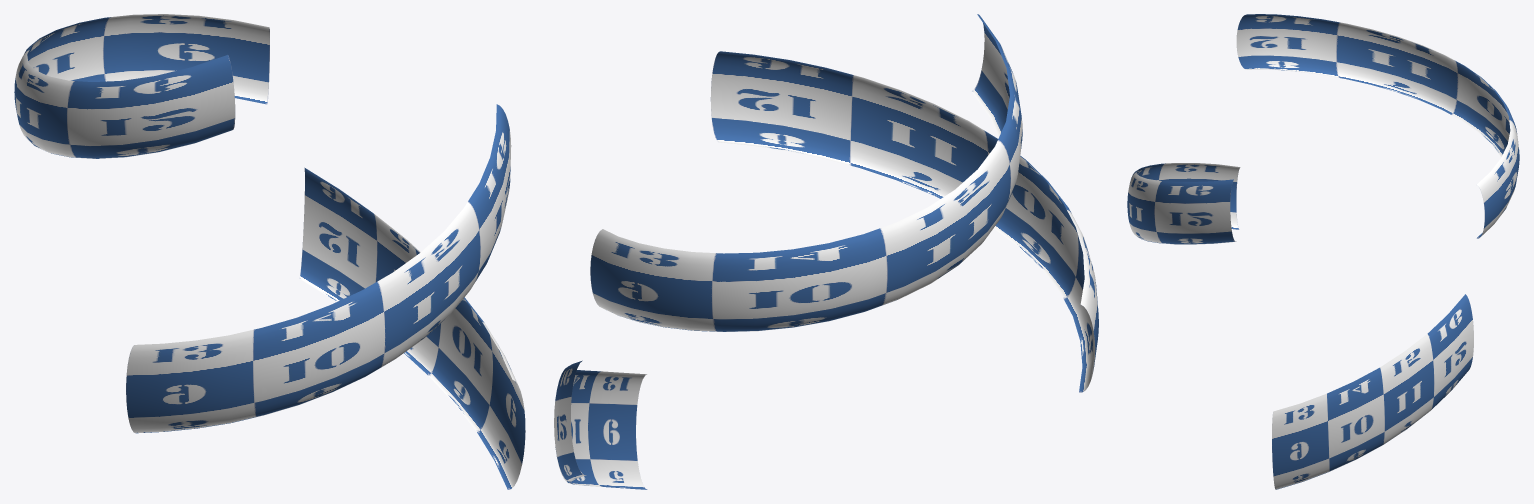
The model's file is Shinobu_Spiral1.fbx.
The picture shows the model from 3 angles, left to right: view 1: azimuth 30°, elevation 25°; view 2: azimuth 150°, elevation 25°; view 3: azimuth 270°, elevation 25°; orthographic projection. The views are drawn at different scales.
Parts seen in each view (by area): view 1: SM_e_Plc_P0011_Spiral001; view 2: SM_e_Plc_P0011_Spiral001; view 3: SM_e_Plc_P0011_Spiral001.
Boxes of the visible parts, x1,y1,x2,y2 form: SM_e_Plc_P0011_Spiral001: [14, 14, 525, 489]; SM_e_Plc_P0011_Spiral001: [554, 14, 1098, 489]; SM_e_Plc_P0011_Spiral001: [1127, 14, 1519, 489].
Bounding box in the file's own units: 108 × 125 × 120.
